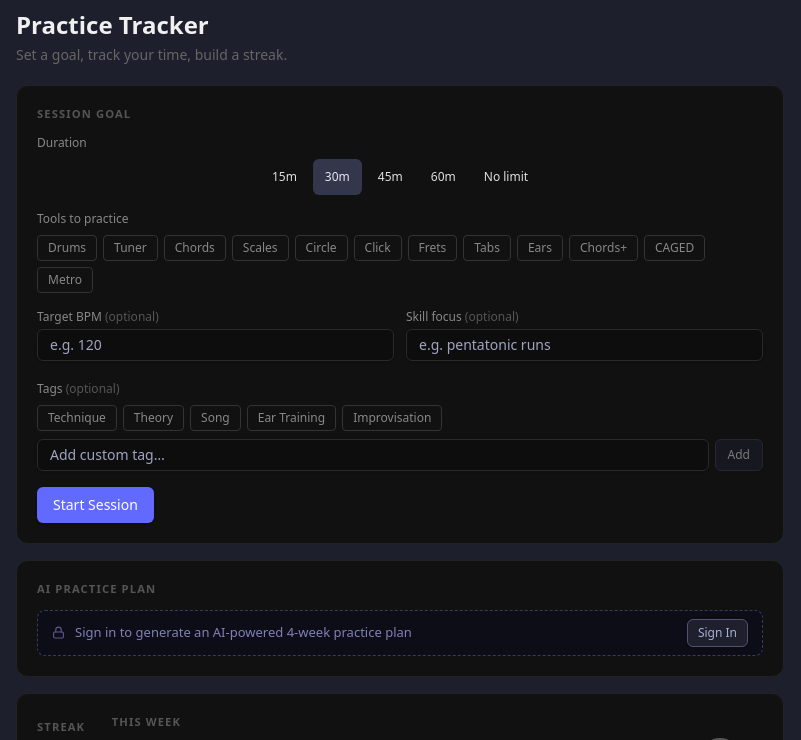
Test: PracticeSessionPage – custom tag input › clicking the Add button adds a chip and clears the input
The width and height of the screenshot is (801, 740).
In the field with placeholder "Add custom tag…": (373, 455) [37,439,709,471], type "Vibrato"
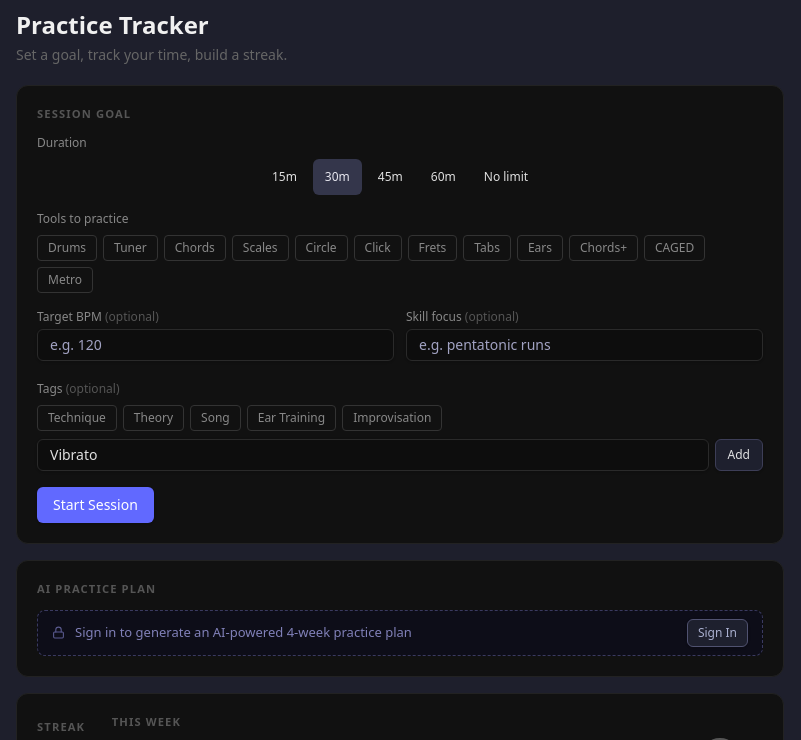
Click the button "Add": click(739, 455) [715,439,763,471]
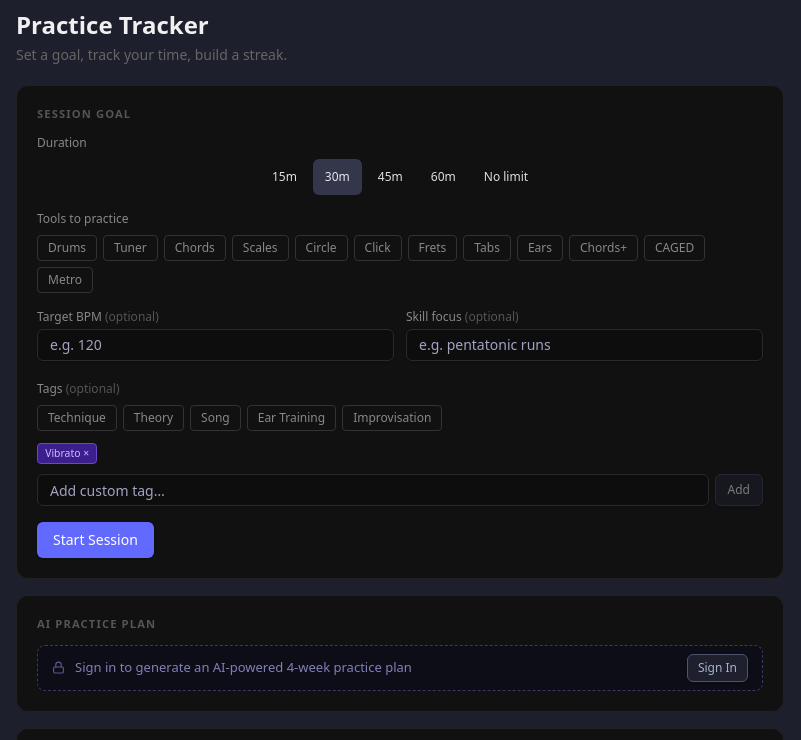
Expected: the button "Vibrato ×" is shown, [37,443,97,464]
Expected: the field with placeholder "Add custom tag…" is empty, [37,474,709,506]
